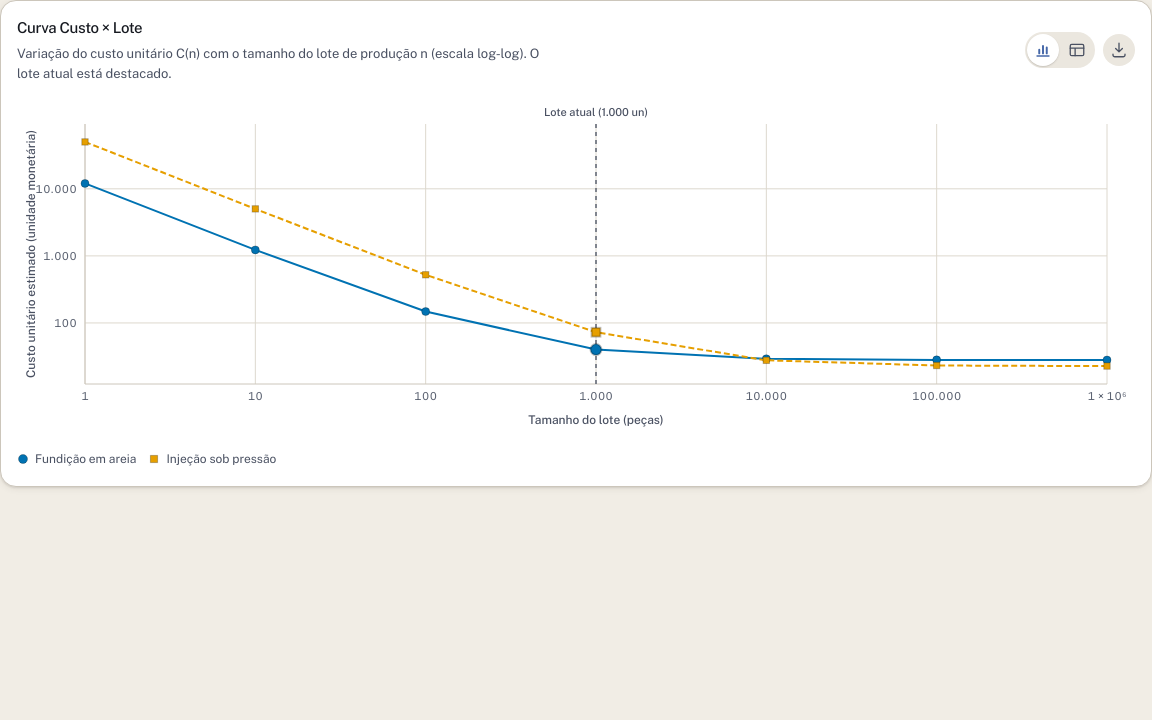
Test case: CostCurveChart › alterna entre gráfico e tabela de dados acessível (D-31)
This screenshot has width=1152, height=720.
Click the button named "Tabela". click: coordinates (1077, 50)
box: top-left (1061, 34), bottom-right (1093, 66)
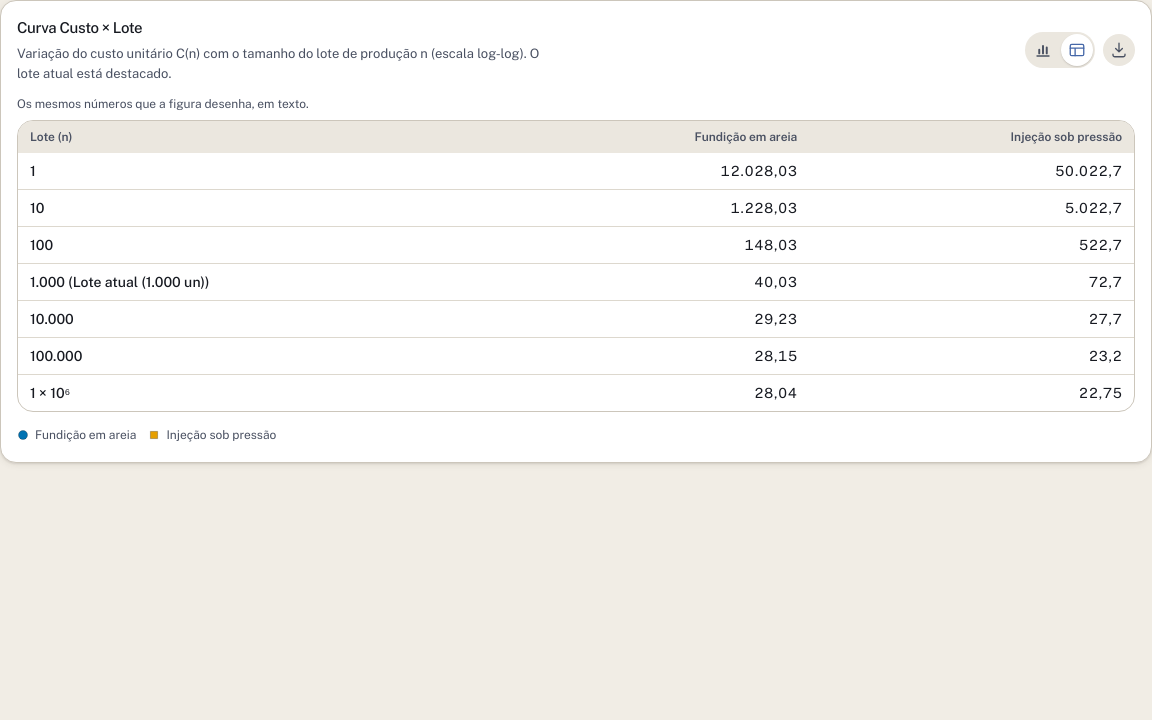
Now the table is shown, box top-left (18, 120), bottom-right (1134, 410)
Now the column heading "Fundição em areia" is shown, box top-left (506, 120), bottom-right (809, 152)
Now the column heading "Injeção sob pressão" is shown, box top-left (809, 120), bottom-right (1134, 152)
